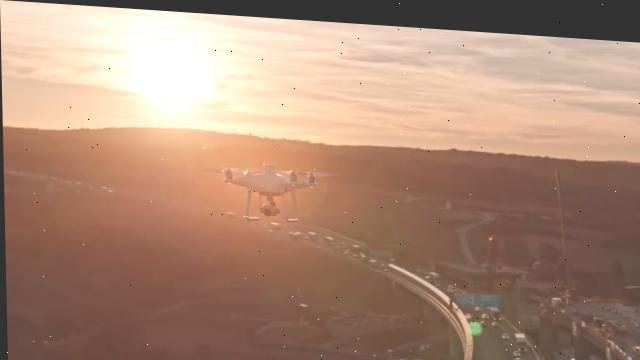drone: (214, 155, 337, 224)
